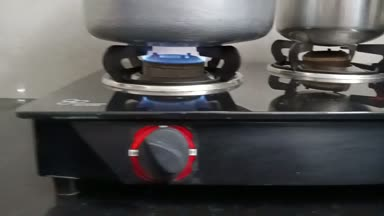flame_gas_on: (90, 31, 246, 189)
